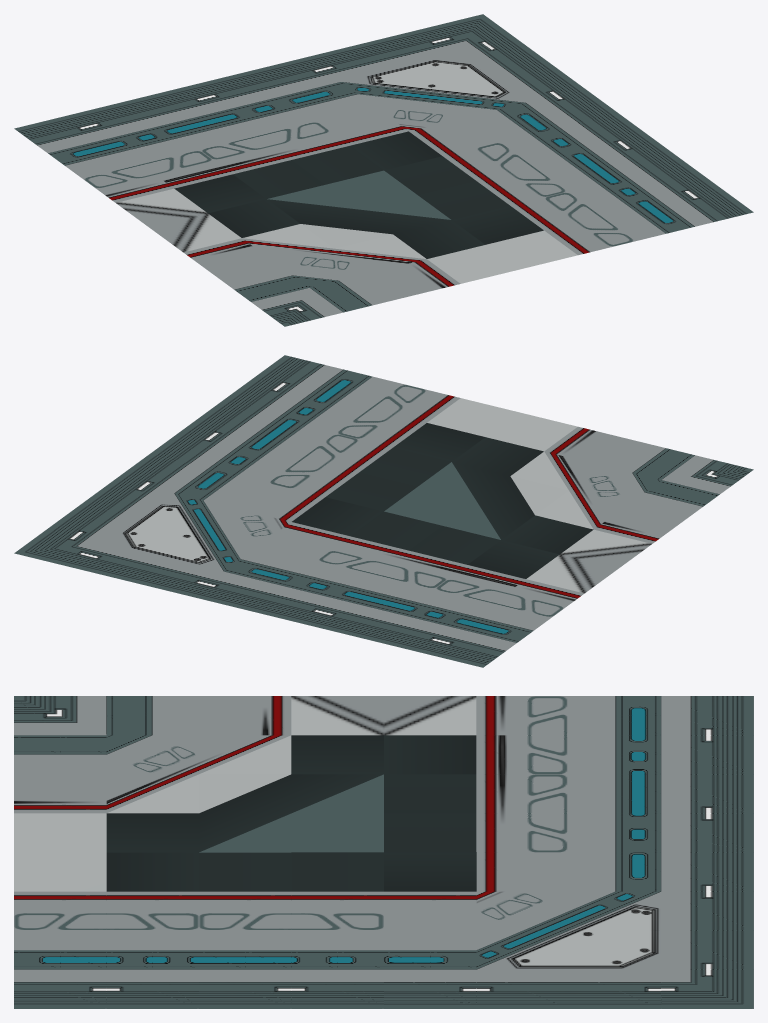
The model's file is Syphon_Environment_Structure_Base.fbx.
3 renders of one model, top to bottom at view 1: azimuth 30°, elevation 25°; view 2: azimuth 150°, elevation 25°; view 3: azimuth 270°, elevation 25°, orthographic. The views are drawn at different scales.
Visible parts, largest first — view 1: Cube.038; view 2: Cube.038; view 3: Cube.038.
Boxes of the visible parts, <box> form: Cube.038: <box>14,14,753,326</box>; Cube.038: <box>14,355,753,667</box>; Cube.038: <box>14,696,753,1008</box>.
Size of the model in its own units: 600 by 600 by 0.
